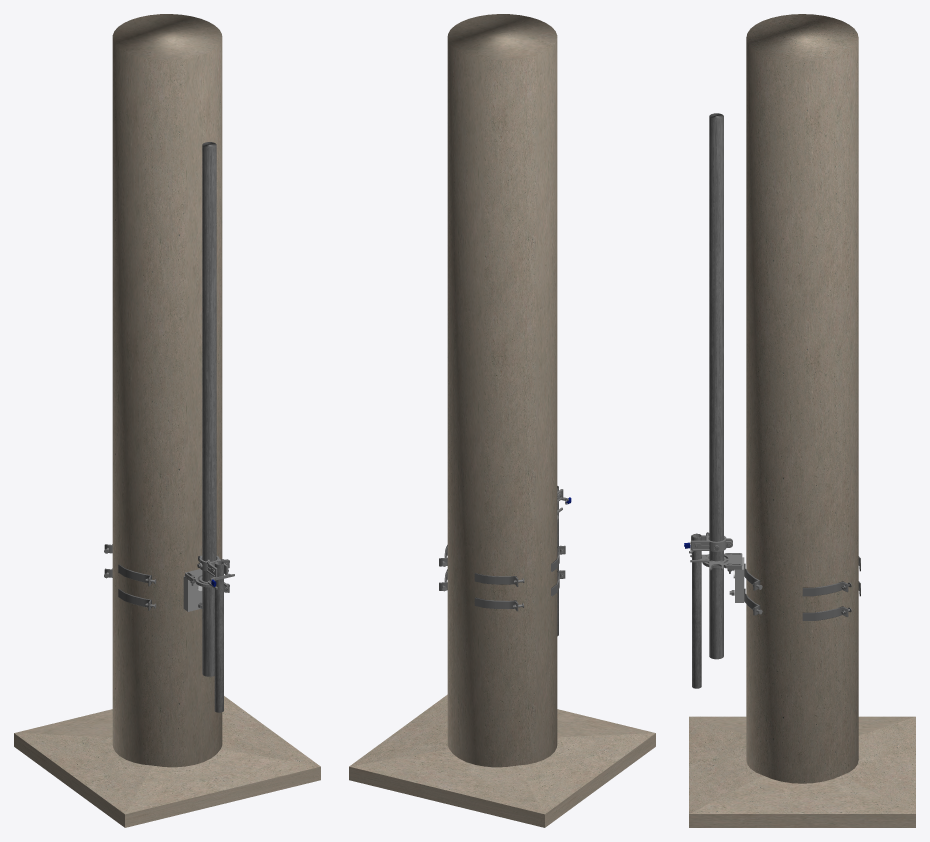
The model's file is torre_abajo_def.gltf.
The picture shows the model from 3 angles, left to right: view 1: azimuth 30°, elevation 25°; view 2: azimuth 150°, elevation 25°; view 3: azimuth 270°, elevation 25°; orthographic projection. The views are drawn at different scales.
Visible parts, largest first — view 1: poste, base, Cilindro.001, Cilindro; view 2: poste, base; view 3: poste, base, Cilindro.001, Cilindro.
Part boxes in pixels (x1,y1,x2,y2): poste: [112, 14, 222, 767]; base: [14, 696, 320, 827]; Cilindro.001: [202, 142, 216, 676]; Cilindro: [214, 561, 223, 712]; poste: [447, 14, 557, 767]; base: [349, 694, 655, 827]; poste: [746, 14, 858, 783]; base: [689, 716, 915, 827]; Cilindro.001: [709, 113, 723, 659]; Cilindro: [692, 533, 701, 688].
Size of the model in its own units: 7.75 by 27.47 by 7.78.
7 materials, 3 textured.
